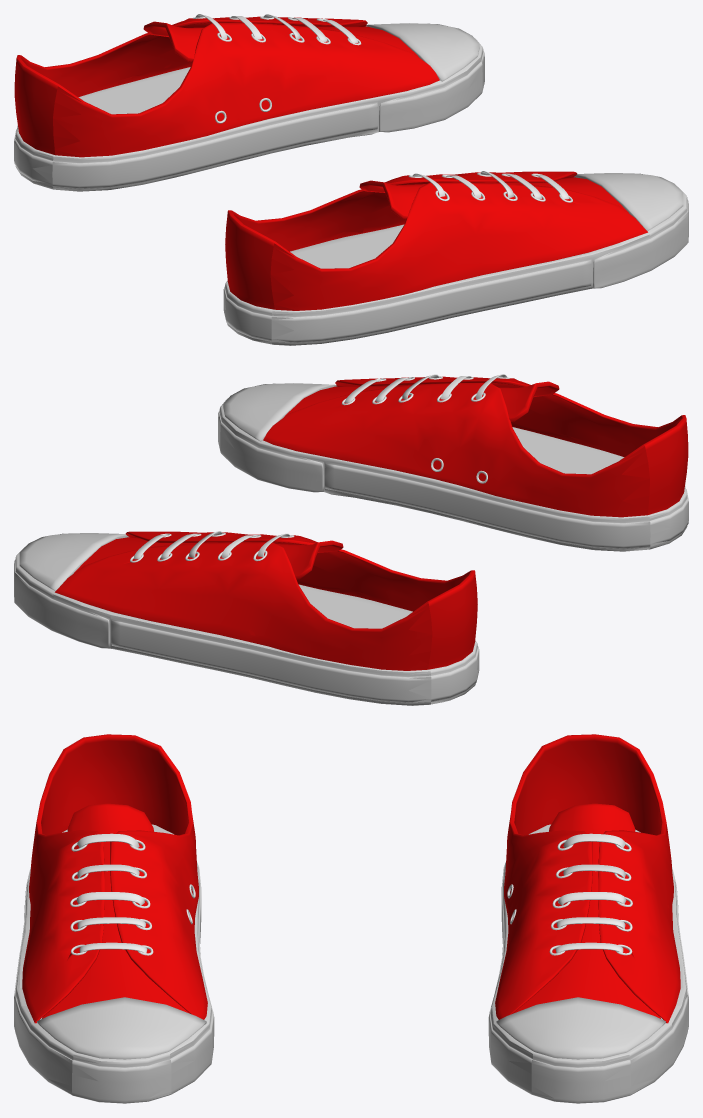
The model's file is Sneakers.fbx.
3 views of the same model, one above another, from view 1: azimuth 30°, elevation 25°; view 2: azimuth 150°, elevation 25°; view 3: azimuth 270°, elevation 25° (orthographic). The views are drawn at different scales.
Visible parts, largest first — view 1: Box02; view 2: Box02; view 3: Box02, Loft15, Loft17, Loft13, Loft14, Loft16.
Boxes of the visible parts, x1,y1,x2,y2 form: Box02: (14, 16, 688, 345); Box02: (14, 376, 688, 705); Box02: (14, 734, 688, 1103); Loft15: (76, 892, 626, 905); Loft17: (77, 833, 625, 847); Loft13: (79, 942, 623, 953); Loft14: (77, 917, 625, 928); Loft16: (77, 864, 625, 878).
Size of the model in its own units: 1.69 by 0.4298 by 1.96.
